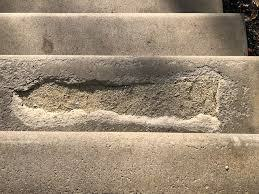Spalling: (10, 65, 235, 131)
